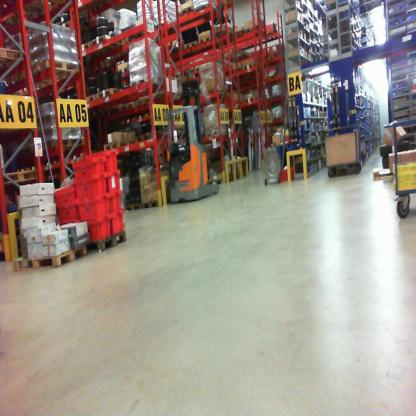forklift: (168, 77, 227, 212)
pallet: (11, 239, 89, 280), (27, 55, 81, 84), (33, 134, 84, 160), (86, 228, 126, 259), (1, 163, 40, 188), (78, 40, 109, 70), (96, 84, 138, 104), (92, 30, 127, 53), (1, 41, 29, 69), (135, 91, 166, 113), (142, 191, 173, 213), (366, 163, 399, 183), (129, 76, 166, 91), (193, 1, 219, 21), (239, 23, 261, 43), (135, 130, 157, 149), (104, 138, 135, 150), (199, 34, 216, 55), (263, 28, 283, 45), (181, 40, 200, 56), (118, 101, 137, 115), (81, 92, 99, 106), (124, 201, 142, 214), (177, 5, 190, 20), (244, 64, 259, 76)
small_load_carrier: (72, 173, 107, 205), (74, 194, 110, 224), (84, 214, 115, 246), (70, 152, 105, 179), (48, 199, 79, 225), (109, 209, 126, 243), (48, 179, 69, 206), (102, 149, 118, 182), (104, 171, 119, 201), (108, 189, 122, 220)
